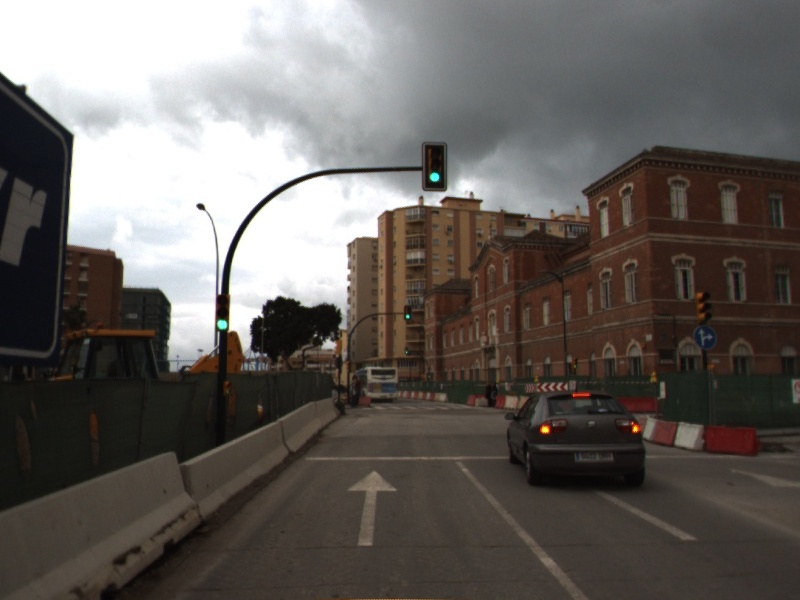STRAIGHT: (343, 468, 401, 549)
